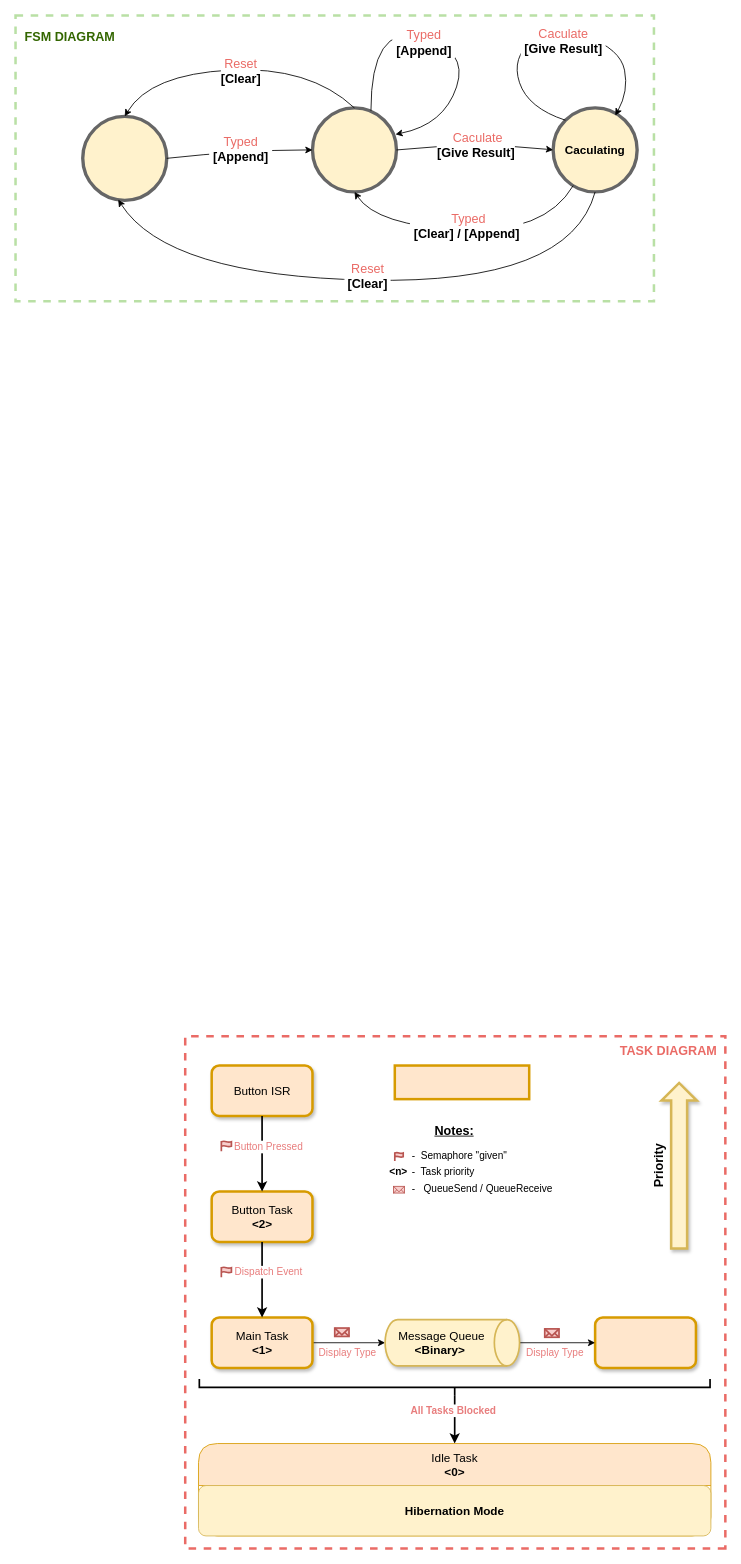
Some shapes in this 741 by 1564 pixel diagram are drawn without their labels. Here are the shapes that lost their labels. From the top down, the centre of each, then its label:
At point 124,158: "Stopped".
At point 354,149: "Converting".
At point 461,1082: "TASK SCHEDULER".
At point 646,1343: "Display Task <1>".
